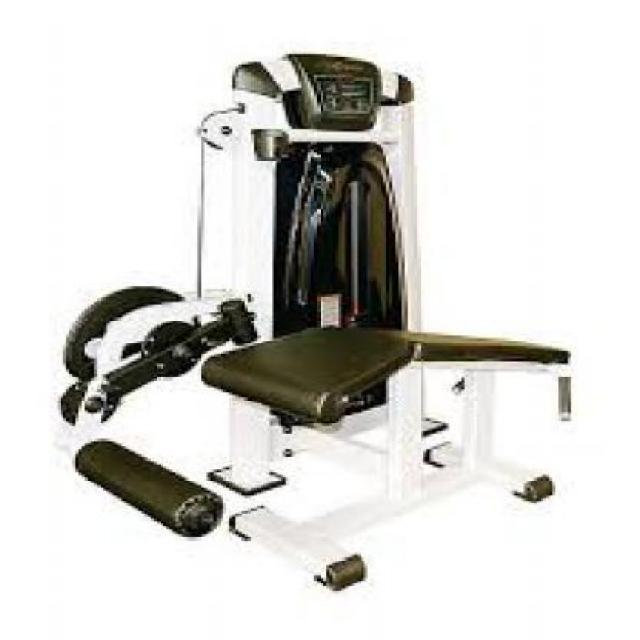reg curl machine: (59, 48, 578, 588)
